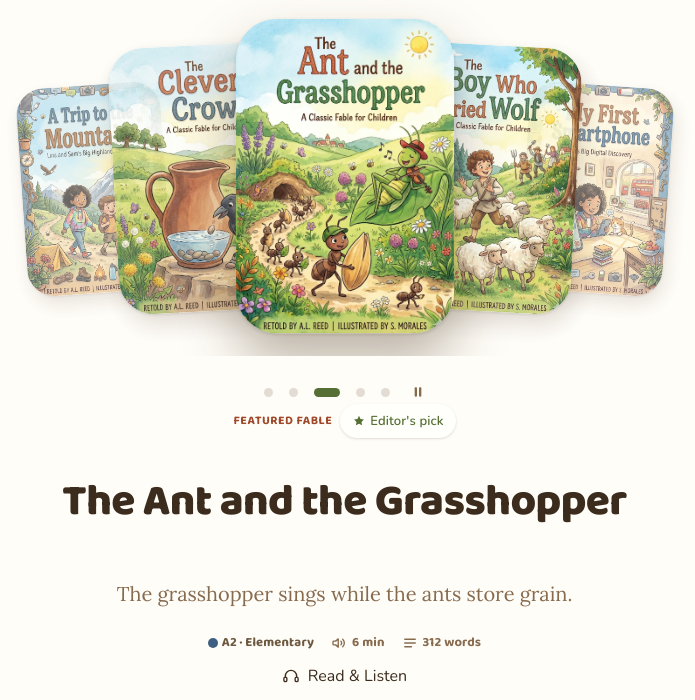
Scenario: FeaturedHero › on a user dot selection: updates h1 + CTA, announces it, and HARD-STOPS auto
Step 1. Click the button named "A Trip to the Mountains" → (268, 392), box x1=260 y1=380 x2=276 y2=404
Wait 20000 ms
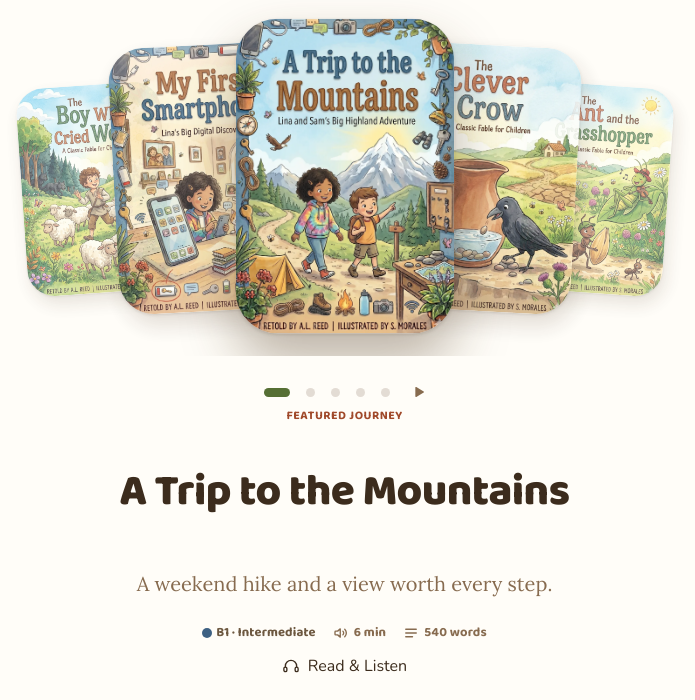
expect the heading "A Trip to the Mountains" is shown: met, box x1=120 y1=440 x2=570 y2=544
expect the button named "Play featured stories" is shown: met, box x1=406 y1=380 x2=430 y2=404
